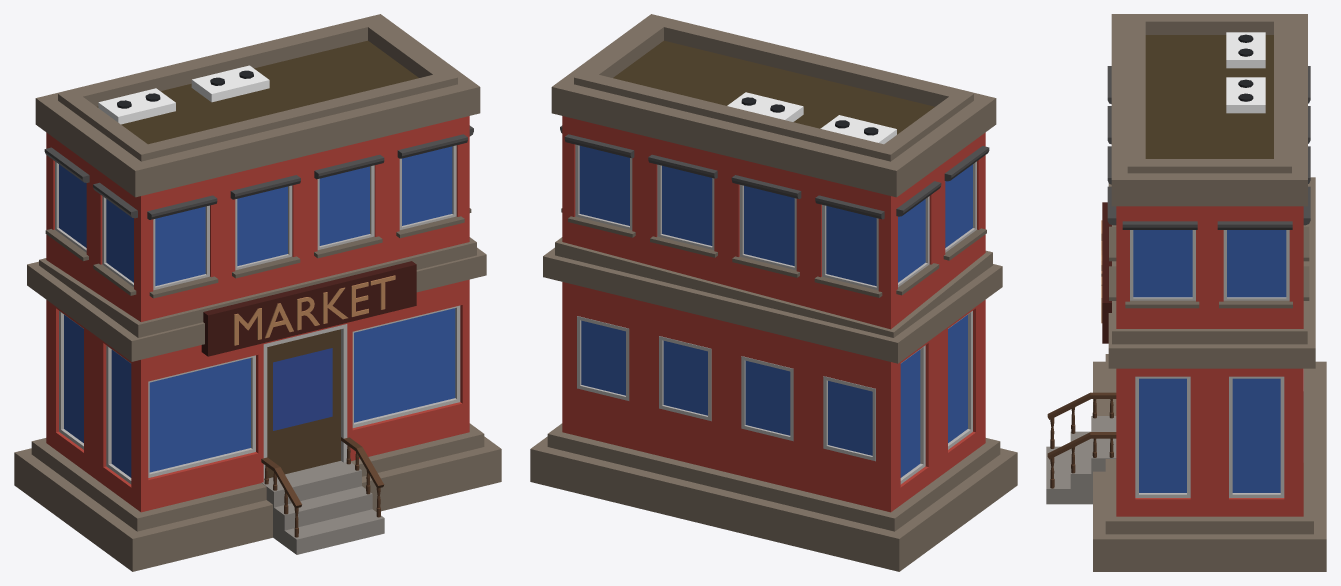
The model's file is Market_1.fbx.
3 views of the same model, side by side, from view 1: azimuth 30°, elevation 25°; view 2: azimuth 150°, elevation 25°; view 3: azimuth 270°, elevation 25° (orthographic).
Parts seen in each view (by area): view 1: Market_1; view 2: Market_1; view 3: Market_1.
Boxes of the visible parts, bbox=[...] form: Market_1: bbox=[14, 14, 501, 571]; Market_1: bbox=[530, 14, 1017, 571]; Market_1: bbox=[1046, 14, 1326, 571].
Bounding box in the file's own units: 1123 × 1157 × 748.
